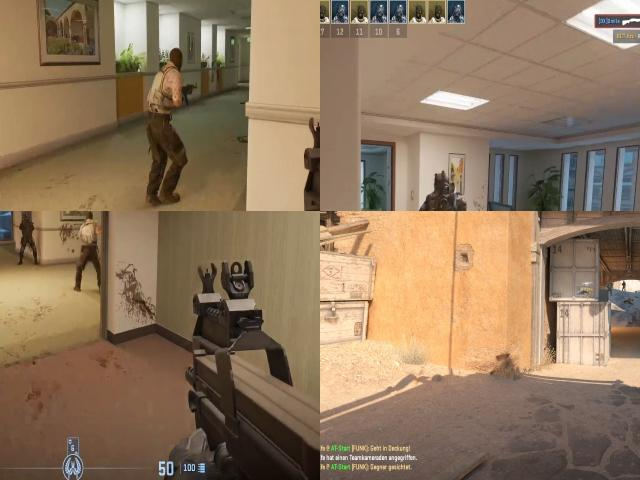CT: (421, 163, 465, 211), (19, 220, 36, 241), (607, 284, 614, 296), (622, 280, 626, 292)
CT-Head: (434, 172, 452, 210), (23, 213, 31, 226), (624, 281, 624, 282)
Dead: (623, 298, 634, 304)
T: (141, 40, 192, 120), (158, 46, 189, 72), (76, 219, 102, 250)
T-Head: (82, 211, 95, 225)
